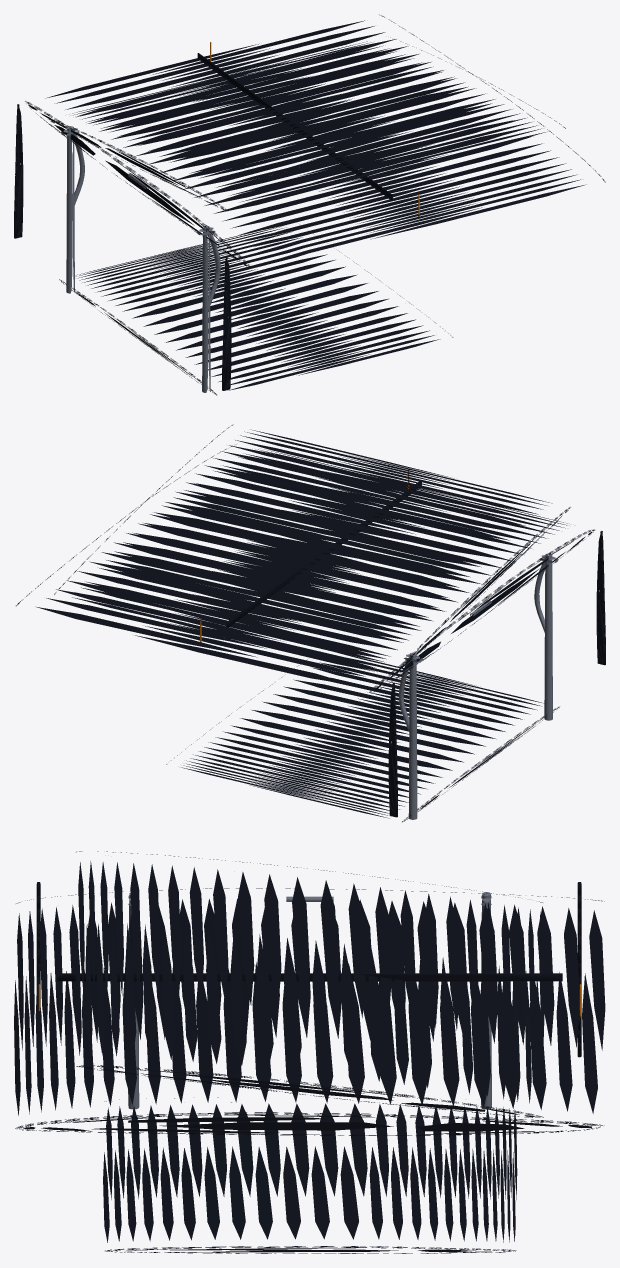
The model's file is rear_wing.glb.
3 renders of one model, top to bottom at view 1: azimuth 30°, elevation 25°; view 2: azimuth 150°, elevation 25°; view 3: azimuth 270°, elevation 25°, orthographic. The views are drawn at different scales.
Visible parts, largest first — view 1: RearWing_Assembly; view 2: RearWing_Assembly; view 3: RearWing_Assembly.
Boxes of the visible parts, <box> form: RearWing_Assembly: <box>14,14,605,395</box>; RearWing_Assembly: <box>16,424,605,822</box>; RearWing_Assembly: <box>14,851,605,1253</box>.
Size of the model in its own units: 0.956 by 0.4801 by 1.01.
